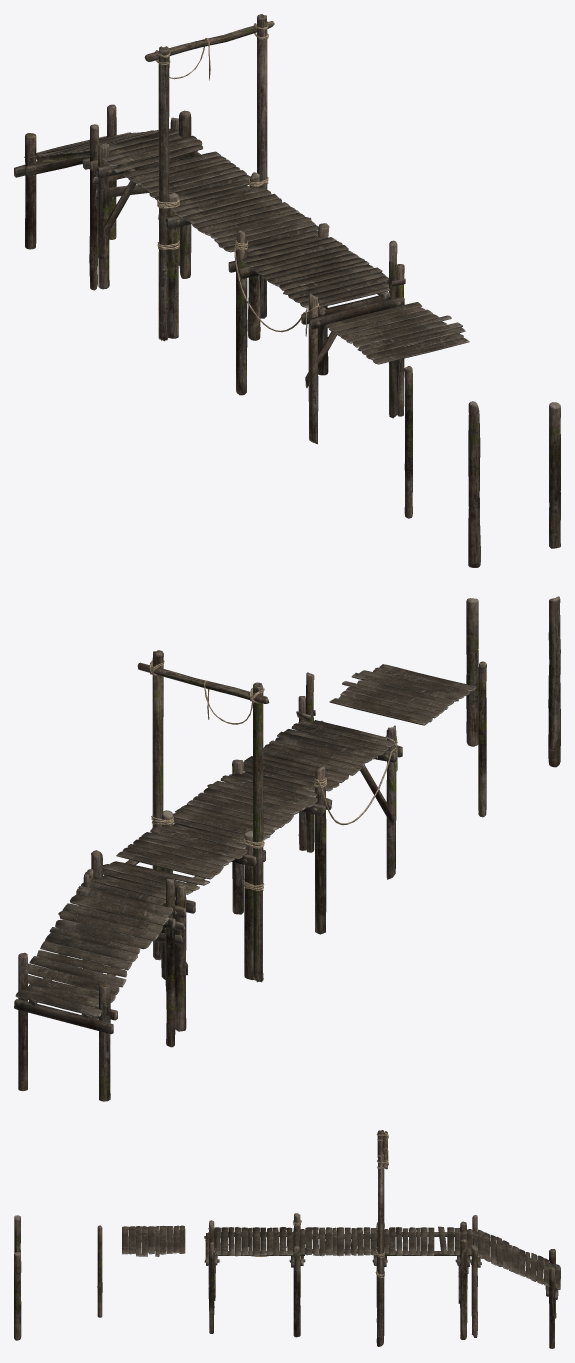
Rendered from modular_pier.glb.
3 views of the same model, one above another, from view 1: azimuth 30°, elevation 25°; view 2: azimuth 150°, elevation 25°; view 3: azimuth 270°, elevation 25° (orthographic). The views are drawn at different scales.
Visible parts, largest first — view 1: modular_wooden_pier_section_01, modular_wooden_pier_section_03, modular_wooden_pier_section_02, modular_wooden_pier_section_05, modular_wooden_pier_section_04, modular_wooden_pier_planks, modular_wooden_pier_poles; view 2: modular_wooden_pier_section_04, modular_wooden_pier_section_01, modular_wooden_pier_section_03, modular_wooden_pier_section_02, modular_wooden_pier_section_05, modular_wooden_pier_poles, modular_wooden_pier_planks; view 3: modular_wooden_pier_section_01, modular_wooden_pier_section_04, modular_wooden_pier_section_03, modular_wooden_pier_section_02, modular_wooden_pier_planks, modular_wooden_pier_section_05, modular_wooden_pier_poles.
Part boxes in pixels (x1,y1,x2,y2): modular_wooden_pier_section_01: [228, 223, 405, 444]; modular_wooden_pier_section_03: [89, 110, 250, 289]; modular_wooden_pier_section_02: [158, 172, 318, 340]; modular_wooden_pier_section_05: [144, 14, 274, 341]; modular_wooden_pier_section_04: [14, 104, 179, 290]; modular_wooden_pier_planks: [325, 302, 469, 364]; modular_wooden_pier_poles: [404, 366, 560, 567]; modular_wooden_pier_section_04: [14, 868, 175, 1101]; modular_wooden_pier_section_01: [229, 672, 402, 934]; modular_wooden_pier_section_03: [81, 827, 247, 1031]; modular_wooden_pier_section_02: [161, 775, 317, 980]; modular_wooden_pier_section_05: [137, 650, 269, 982]; modular_wooden_pier_poles: [466, 596, 560, 817]; modular_wooden_pier_planks: [329, 664, 476, 725]; modular_wooden_pier_section_01: [204, 1213, 305, 1337]; modular_wooden_pier_section_04: [471, 1215, 560, 1348]; modular_wooden_pier_section_03: [376, 1221, 473, 1339]; modular_wooden_pier_section_02: [292, 1222, 389, 1346]; modular_wooden_pier_planks: [122, 1225, 185, 1256]; modular_wooden_pier_section_05: [375, 1130, 388, 1337]; modular_wooden_pier_poles: [14, 1215, 102, 1340].
Size of the model in its own units: 3.1 by 7.51 by 19.03.
Materials: 2 (2 with a texture image).
